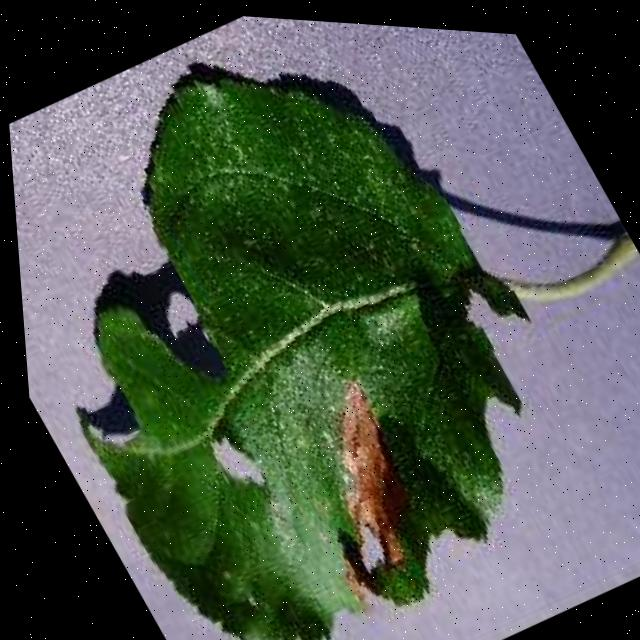black_rot: (242, 350, 489, 626)
